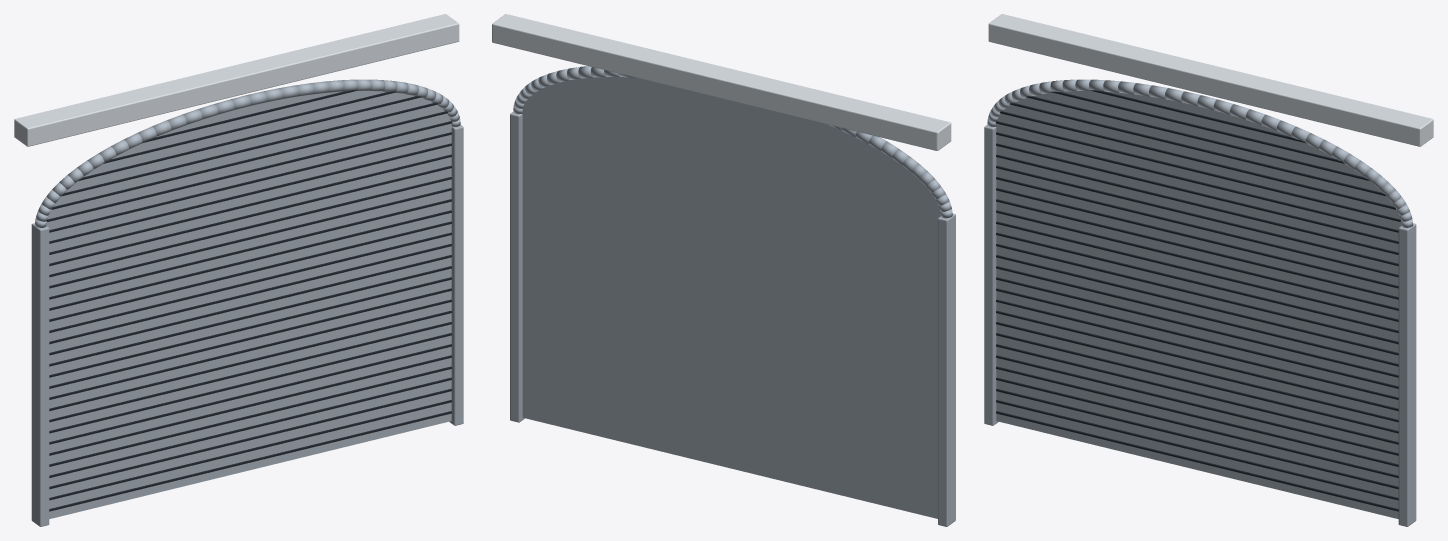
The model's file is vehicle-shutter.glb.
The picture shows the model from 3 angles, left to right: view 1: azimuth 30°, elevation 25°; view 2: azimuth 150°, elevation 25°; view 3: azimuth 330°, elevation 25°; orthographic projection. The views are drawn at different scales.
Parts seen in each view (by area): view 1: Curtain, Door guide, Roller hood; view 2: Curtain, Roller hood, Door guide; view 3: Curtain, Door guide, Roller hood.
Boxes of the visible parts, x1,y1,x2,y2 form: Curtain: (46,90,452,518); Door guide: (31,79,463,526); Roller hood: (14,14,459,146); Curtain: (522,77,940,518); Roller hood: (492,14,951,150); Door guide: (510,66,955,526); Curtain: (995,90,1401,518); Door guide: (984,79,1416,526); Roller hood: (988,14,1433,146).
Bounding box in the file's own units: 7.3 × 6.35 × 0.65.
